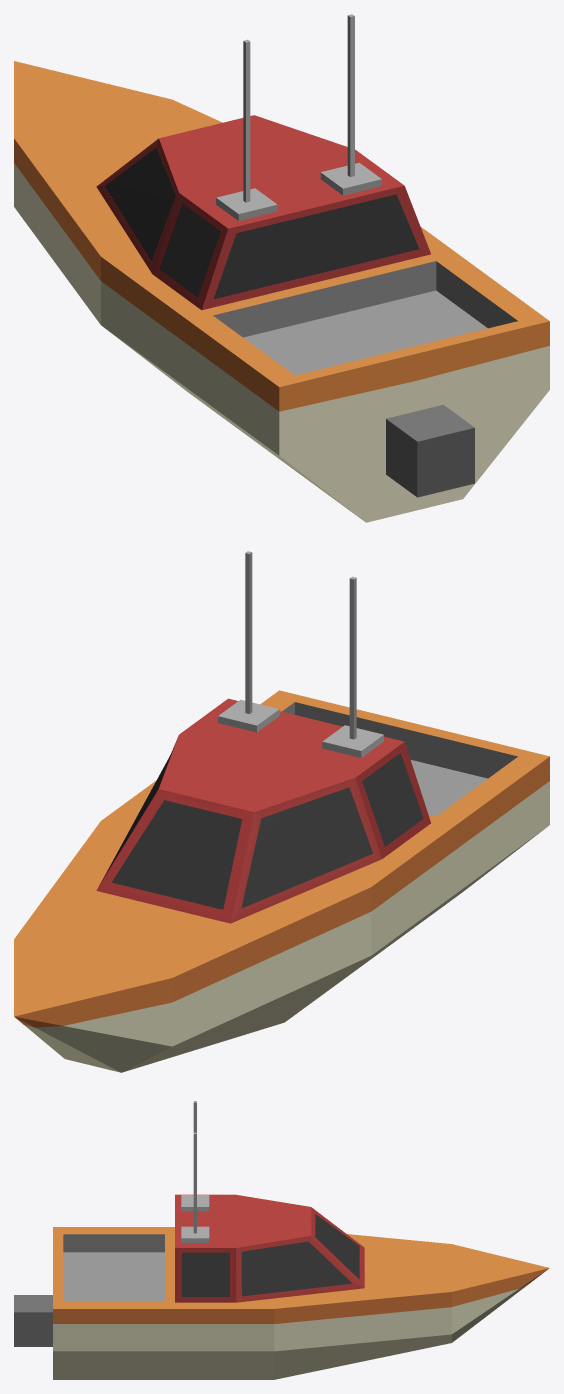
File: barco_Animado_3.glb
The picture shows the model from 3 angles, top to bottom: view 1: azimuth 30°, elevation 25°; view 2: azimuth 150°, elevation 25°; view 3: azimuth 270°, elevation 25°; orthographic projection. The views are drawn at different scales.
Parts seen in each view (by area): view 1: pasted__Vehicle_Boat_01; view 2: pasted__Vehicle_Boat_01; view 3: pasted__Vehicle_Boat_01.
Boxes of the visible parts, x1,y1,x2,y2 form: pasted__Vehicle_Boat_01: (14, 14, 549, 522); pasted__Vehicle_Boat_01: (14, 551, 549, 1072); pasted__Vehicle_Boat_01: (14, 1101, 549, 1379).
Bounding box in the file's own units: 2.5 × 3.52 × 6.92.
Materials: 1 (1 with a texture image).
